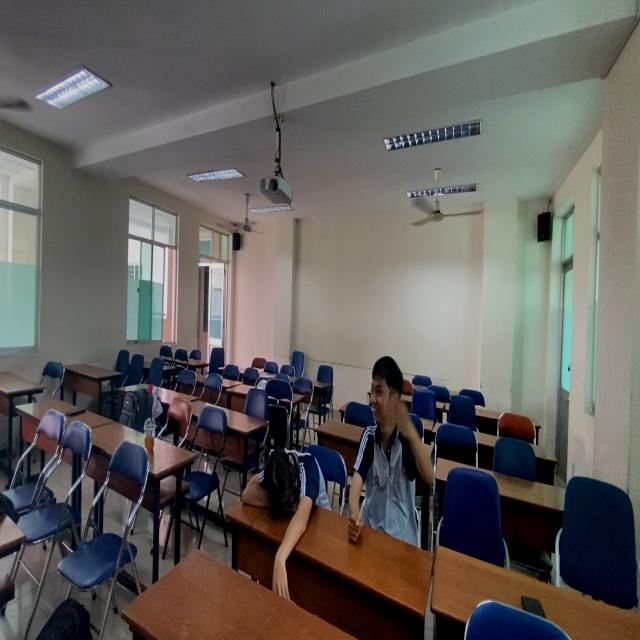sleep: (235, 440, 336, 618)
